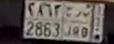2: (26, 1, 35, 37)
3: (52, 3, 60, 39)
6: (42, 3, 51, 37)
8: (35, 2, 42, 38)
B: (82, 10, 89, 39)
J: (64, 6, 72, 38)
R: (74, 10, 81, 38)
